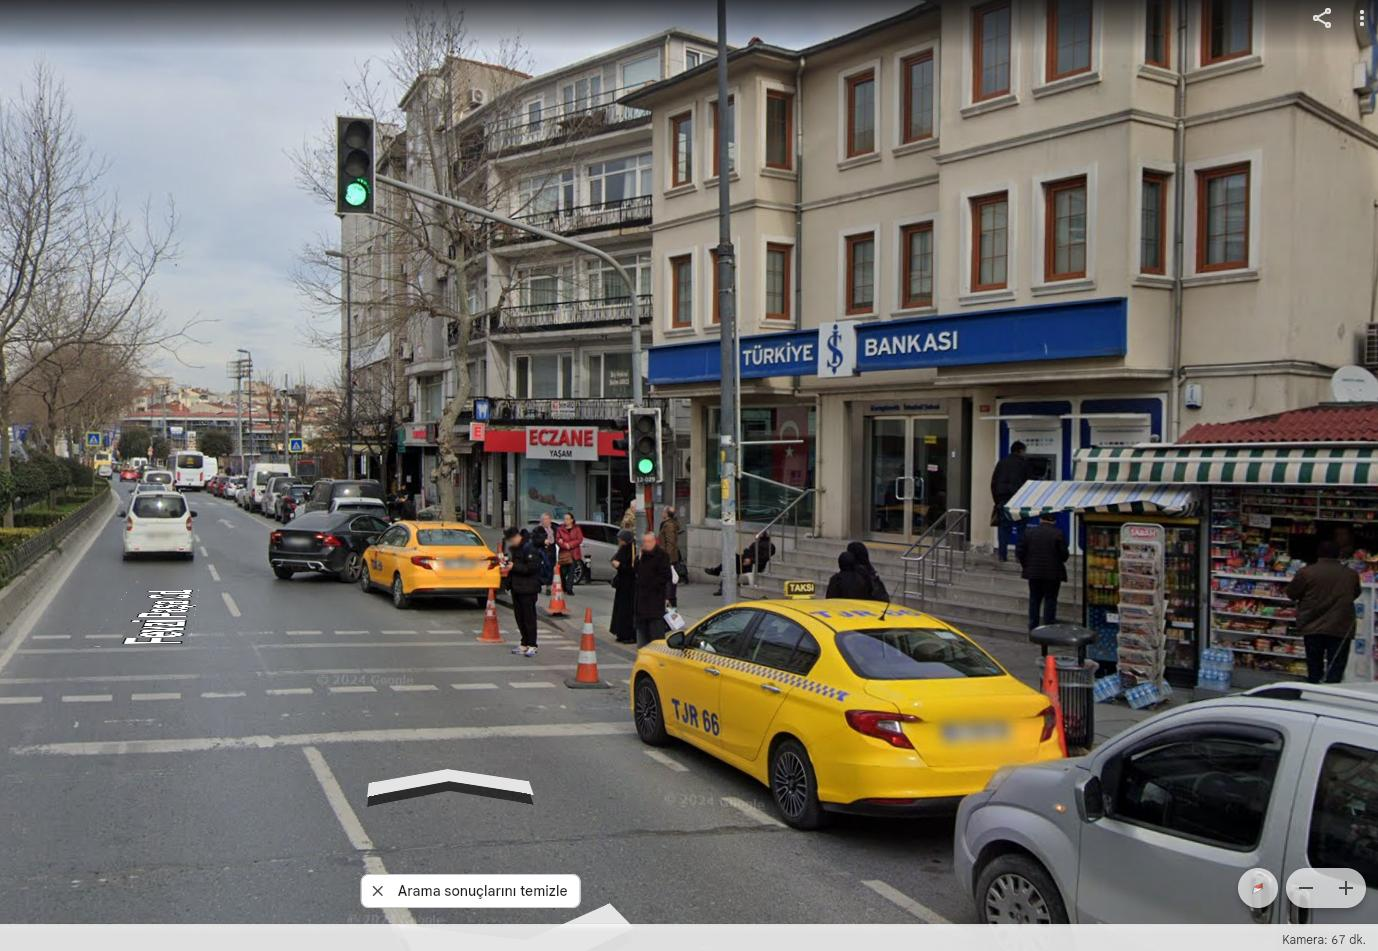greenlight: (341, 117, 372, 217), (630, 410, 661, 483)
